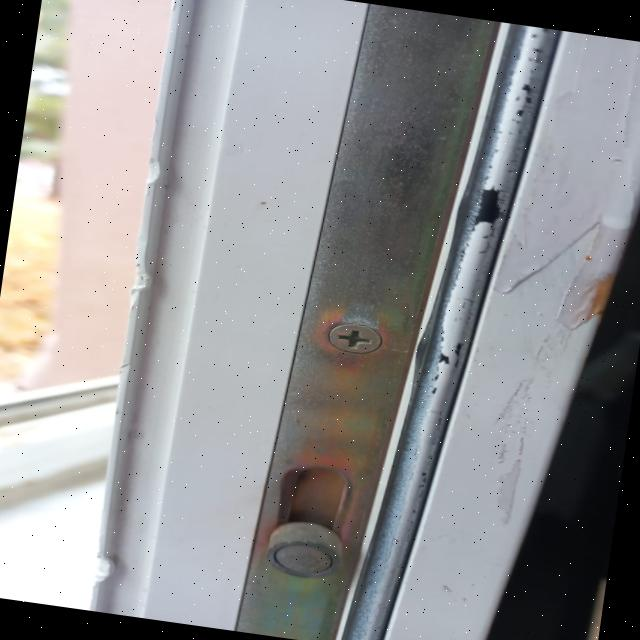Phillips: (322, 317, 387, 358)
